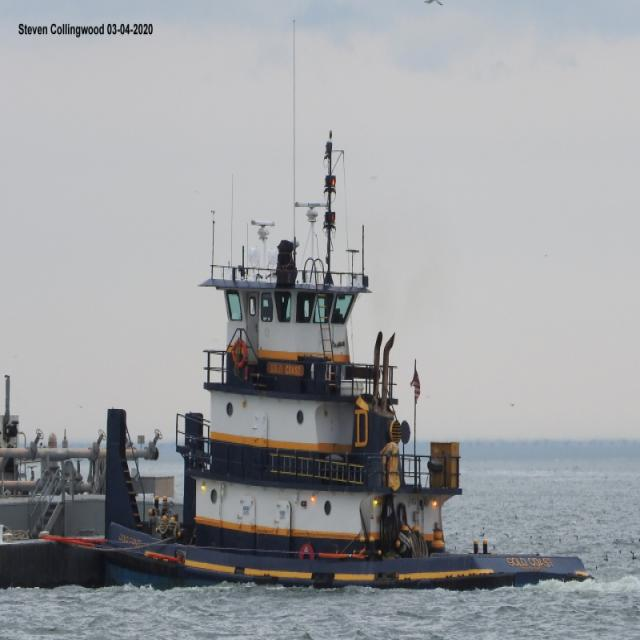tugboat: (102, 125, 600, 607)
